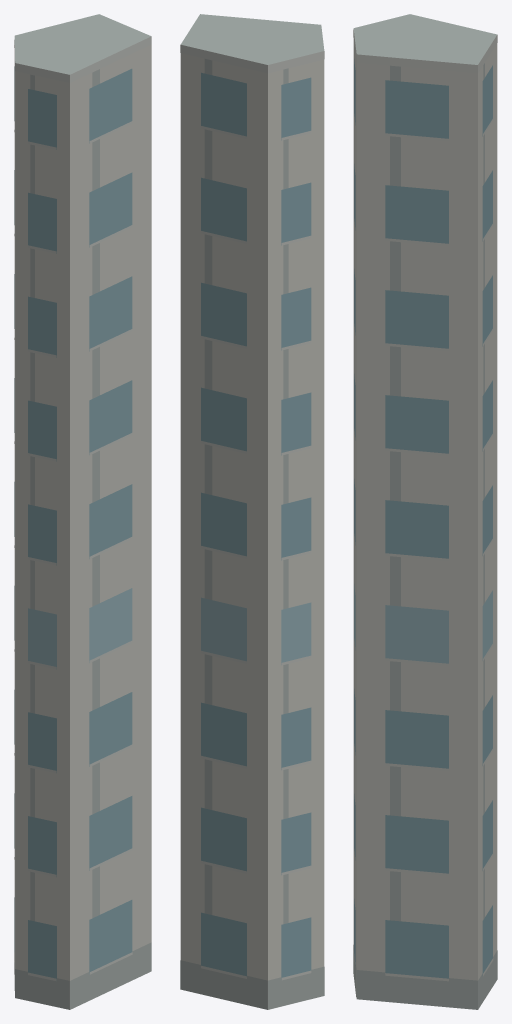
The model's file is survey-upis-32963273.glb.
The picture shows the model from 3 angles, left to right: view 1: azimuth 30°, elevation 25°; view 2: azimuth 150°, elevation 25°; view 3: azimuth 330°, elevation 25°; orthographic projection.
Visible parts, largest first — view 1: survey-upis-32963273.tmp; view 2: survey-upis-32963273.tmp; view 3: survey-upis-32963273.tmp.
Part boxes in pixels (<box>): survey-upis-32963273.tmp: <box>14,14,151,1009</box>; survey-upis-32963273.tmp: <box>180,14,324,1009</box>; survey-upis-32963273.tmp: <box>353,14,497,1009</box>.
Size of the model in its own units: 4 by 27.45 by 2.94.
